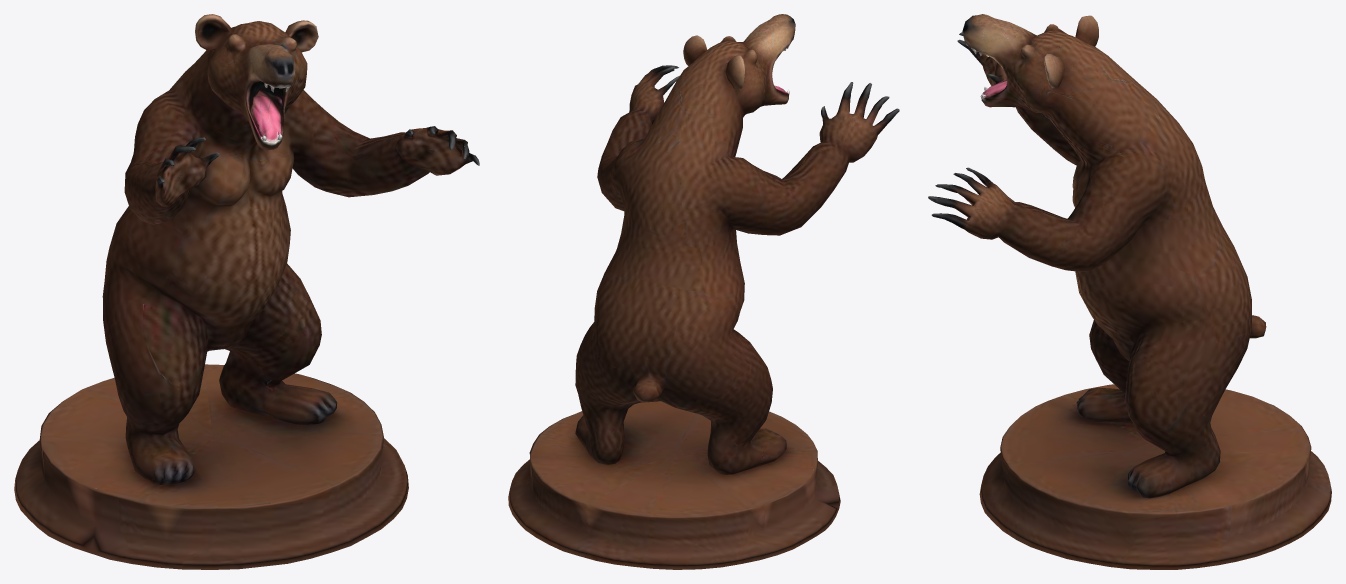
File: bear_standing.glb
The picture shows the model from 3 angles, left to right: view 1: azimuth 30°, elevation 25°; view 2: azimuth 150°, elevation 25°; view 3: azimuth 270°, elevation 25°; orthographic projection. The views are drawn at different scales.
Bounding box in the file's own units: 0.7009 × 1 × 0.7882.
1 material, 1 textured.
